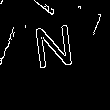N_S: (35, 26, 82, 80)
